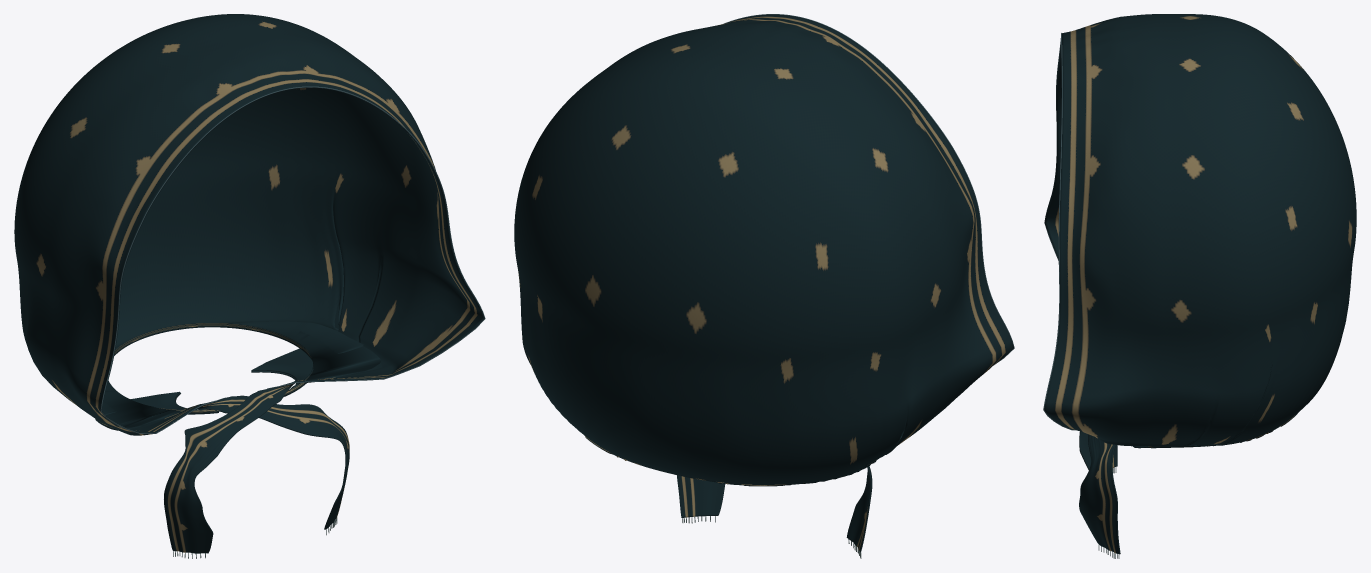
File: Feminine-side-sweep-strappy-pashmina250-headgear.glb
3 views of the same model, side by side, from view 1: azimuth 30°, elevation 25°; view 2: azimuth 150°, elevation 25°; view 3: azimuth 270°, elevation 25° (orthographic). The views are drawn at different scales.
Visible parts, largest first — view 1: 226 headgear / Headwear / continuous woven pashmina239, 226 headgear / Headwear / face edge239; view 2: 226 headgear / Headwear / continuous woven pashmina239, 226 headgear / Headwear / face edge239; view 3: 226 headgear / Headwear / continuous woven pashmina239, 226 headgear / Headwear / face edge239.
Boxes of the visible parts, <box> form: 226 headgear / Headwear / continuous woven pashmina239: <box>14,14,484,553</box>; 226 headgear / Headwear / face edge239: <box>100,86,485,433</box>; 226 headgear / Headwear / continuous woven pashmina239: <box>514,14,1013,552</box>; 226 headgear / Headwear / face edge239: <box>723,14,1014,364</box>; 226 headgear / Headwear / continuous woven pashmina239: <box>1044,14,1356,554</box>; 226 headgear / Headwear / face edge239: <box>1043,33,1074,430</box>.
Bounding box in the file's own units: 1.15 × 1.39 × 0.8124.
3 materials, 1 textured.
